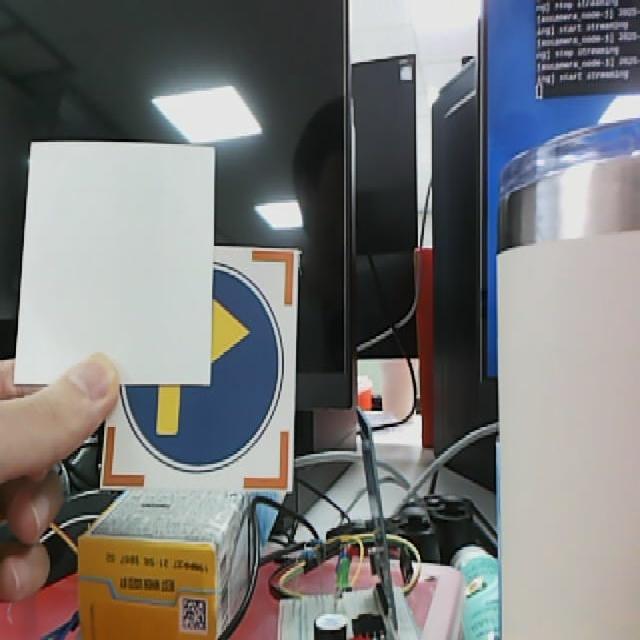right: (94, 245, 296, 499)
